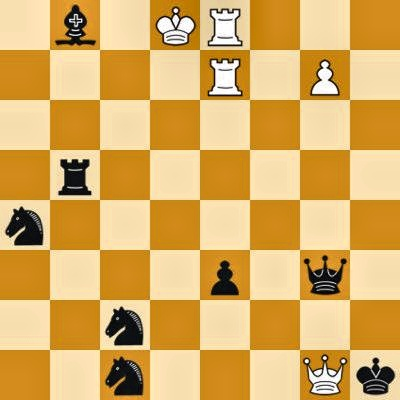black-bishop: (50, 0, 100, 50)
black-king: (350, 350, 400, 400)
black-knight: (0, 200, 50, 250), (100, 300, 150, 350), (100, 350, 150, 400)
black-pawn: (200, 250, 250, 300)
black-queen: (300, 250, 350, 300)
black-rook: (50, 150, 100, 200)
white-king: (150, 0, 200, 50)
white-pawn: (300, 50, 350, 100)
white-queen: (300, 350, 350, 400)
white-rook: (200, 0, 250, 50), (200, 50, 250, 100)
